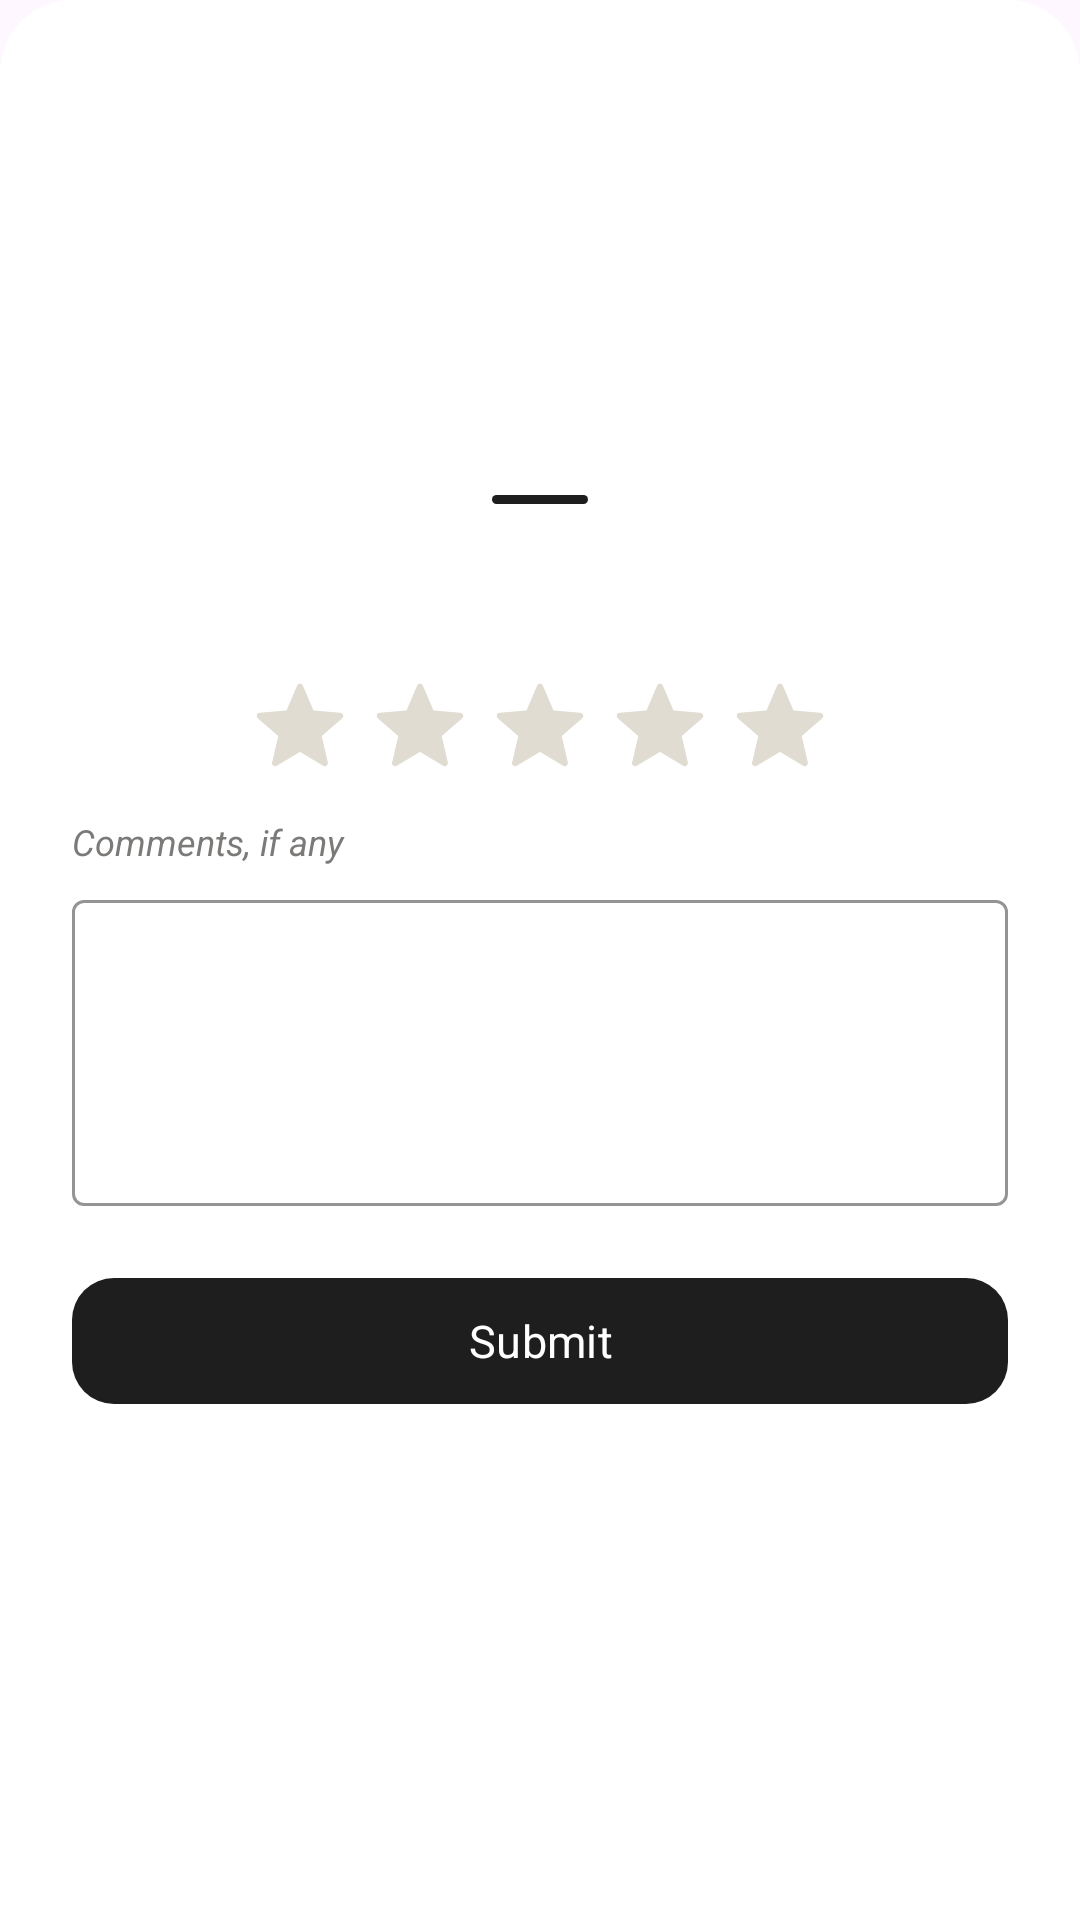

Screen size 1080px×1920px. Icon name, then its center in pixels as (x=x, y=y):
star rounded: (x=300, y=725), (x=420, y=725), (x=540, y=725), (x=660, y=725), (x=780, y=725)
